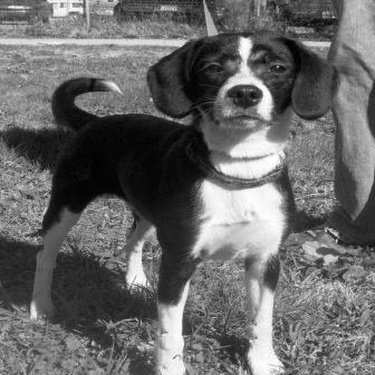dog: (18, 27, 345, 373)
